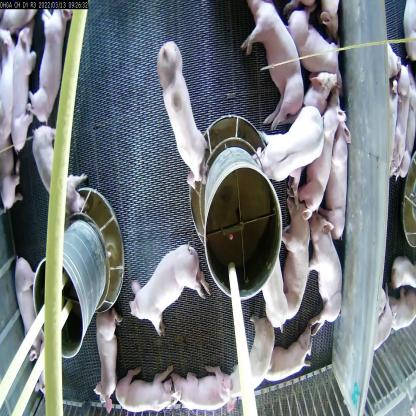Pig: (130, 237, 204, 339), (154, 34, 204, 174), (244, 0, 298, 126), (27, 115, 90, 215), (272, 195, 316, 324), (300, 93, 342, 211), (261, 104, 320, 184), (322, 126, 359, 237), (282, 3, 339, 73), (32, 8, 65, 123), (310, 207, 343, 320), (176, 354, 234, 416), (90, 302, 121, 415), (118, 368, 184, 415), (237, 318, 274, 395), (254, 254, 287, 340), (10, 36, 34, 154), (266, 333, 314, 384), (15, 253, 35, 351)
